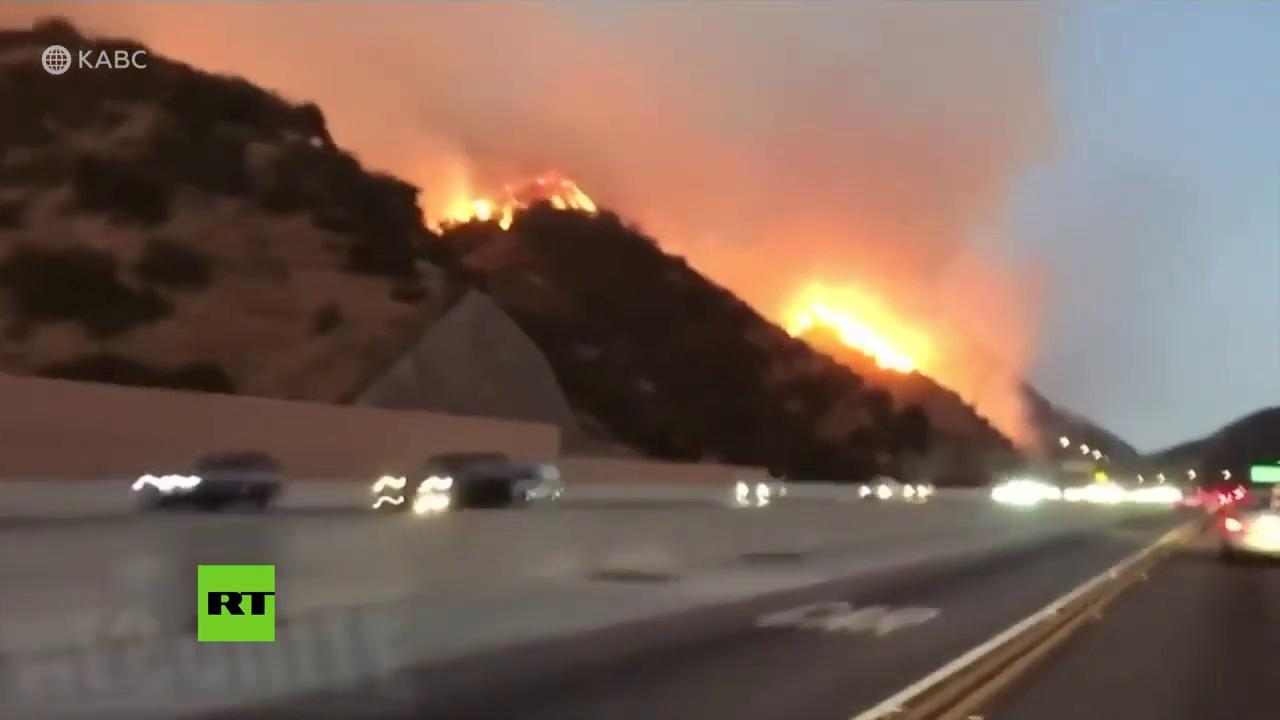Fire: (784, 292, 922, 373), (447, 193, 517, 231), (551, 176, 599, 215)
